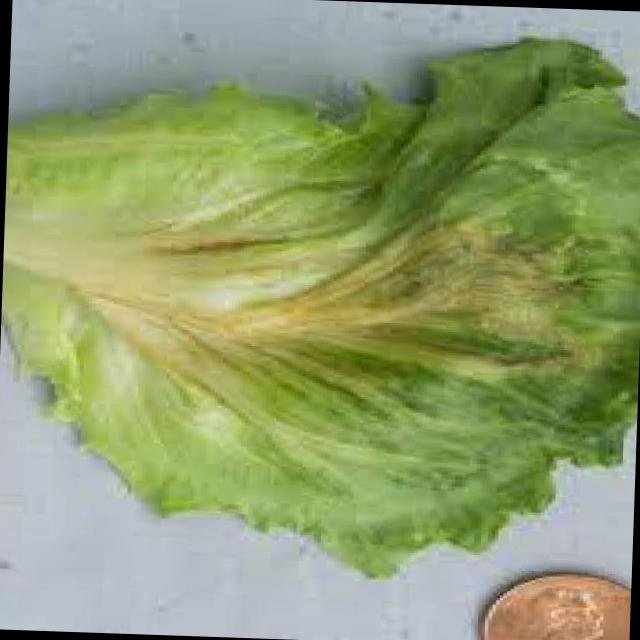Downy_mildew: (114, 157, 614, 438)
